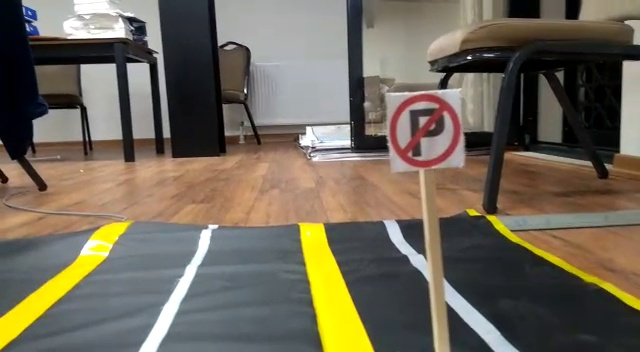park_yapilmaz: (386, 93, 463, 167)
